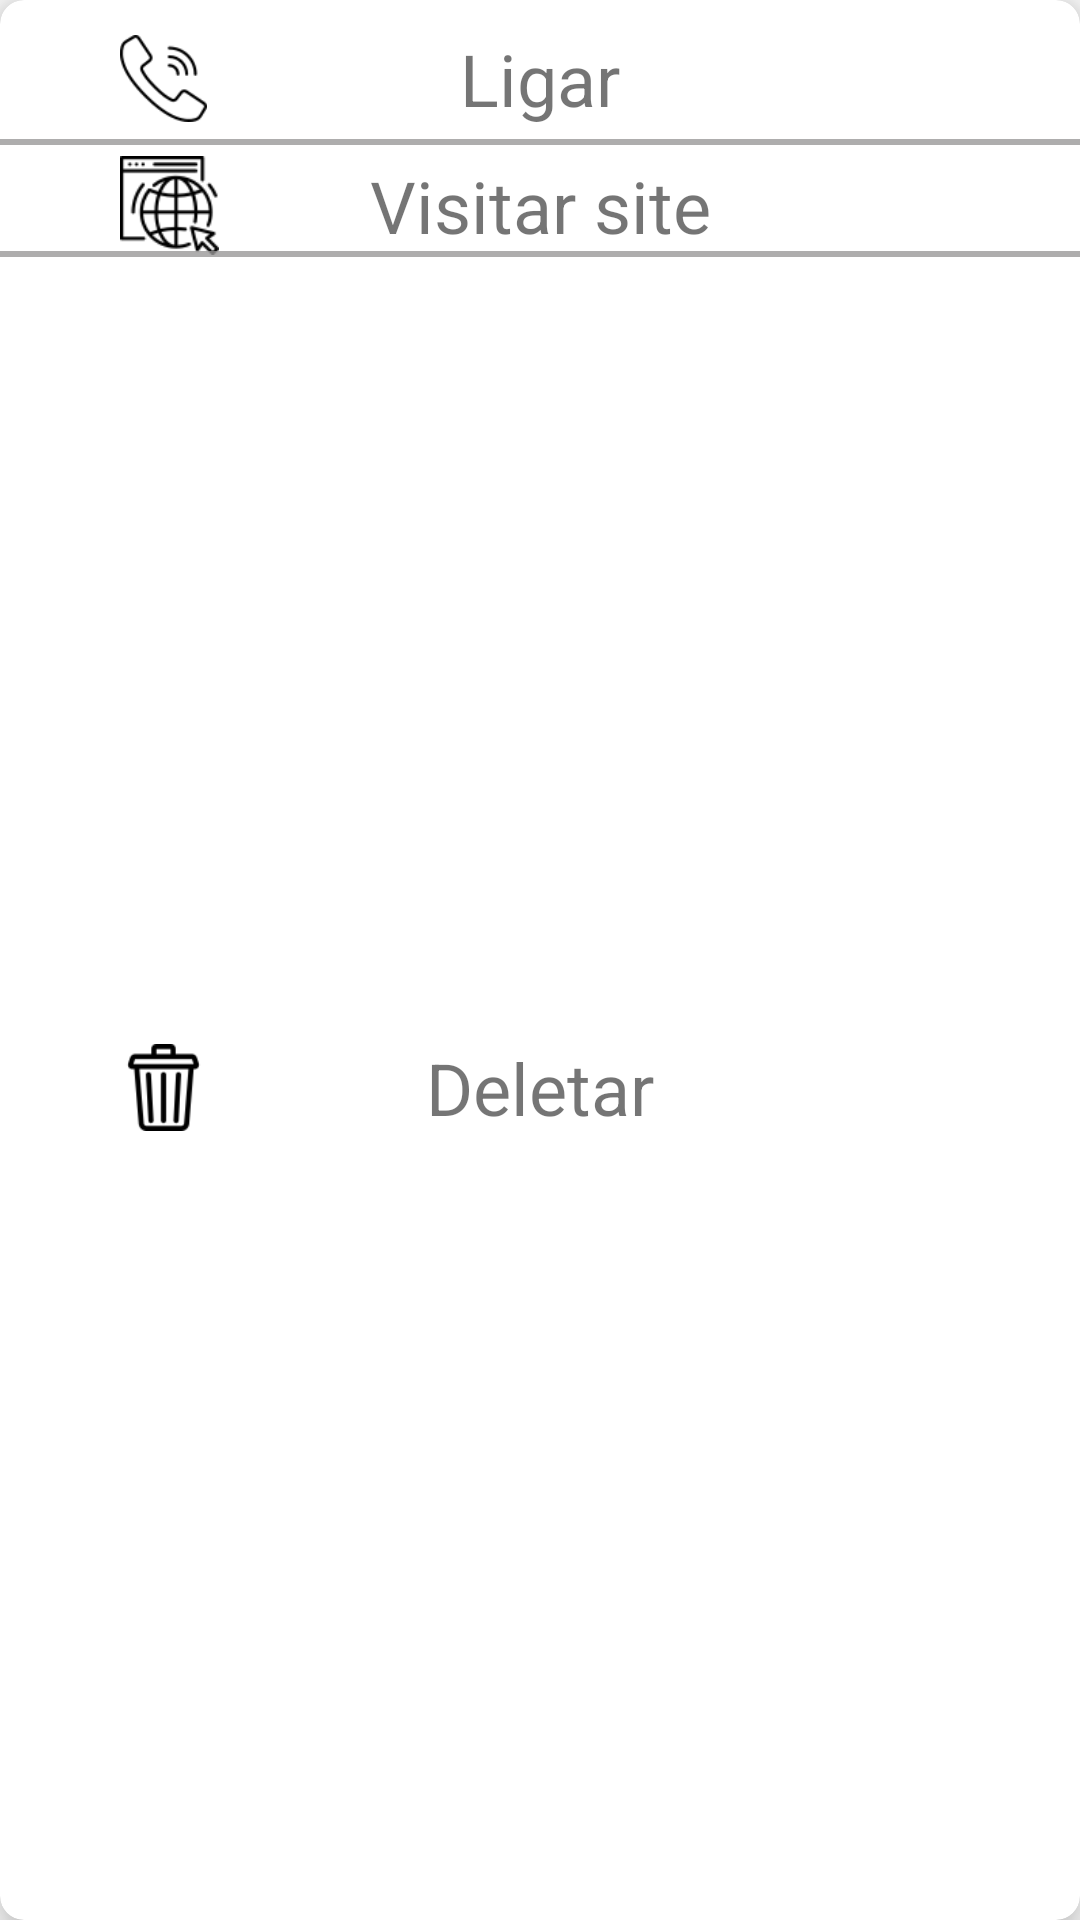

Locate icon controls on the screen. Image size 1080px×1920px, boxes as (x1, y1, x2, y2).
internet options: (120, 156, 219, 255)
phone options: (120, 35, 207, 122)
trash option: (128, 1044, 200, 1131)
